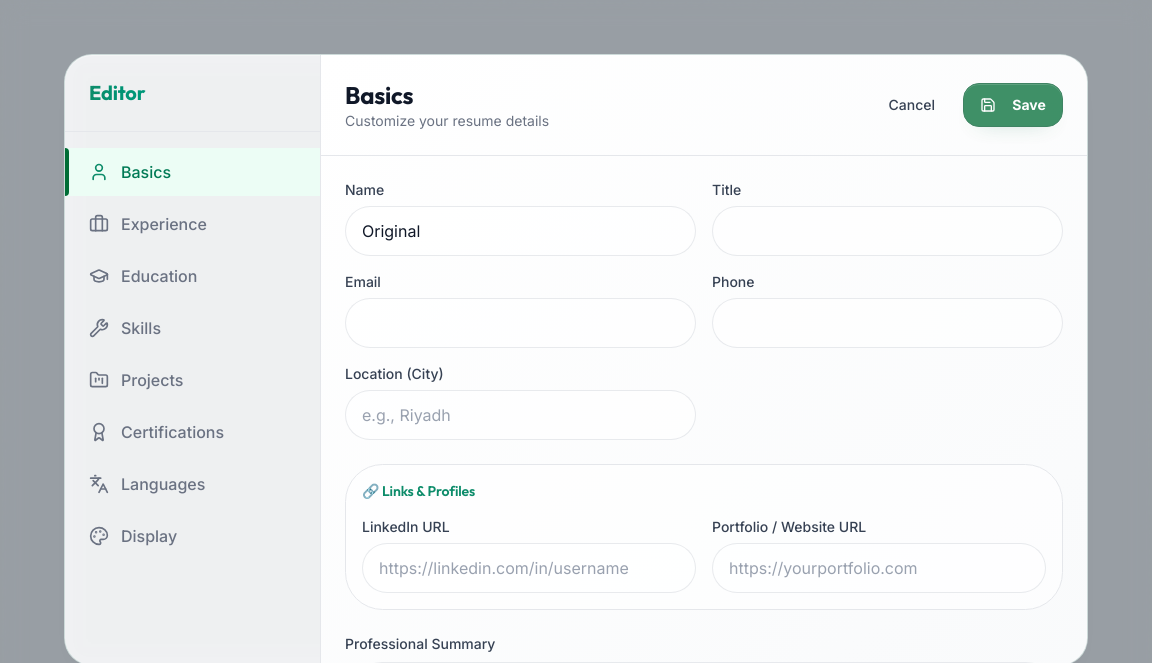
Test: keeps edits open and the previous resume intact when the library write fails
Step 1. Replace the text in the field showing "Original" below "Name" with "Corrected" → coordinates (520, 231), box [345,206,696,256]
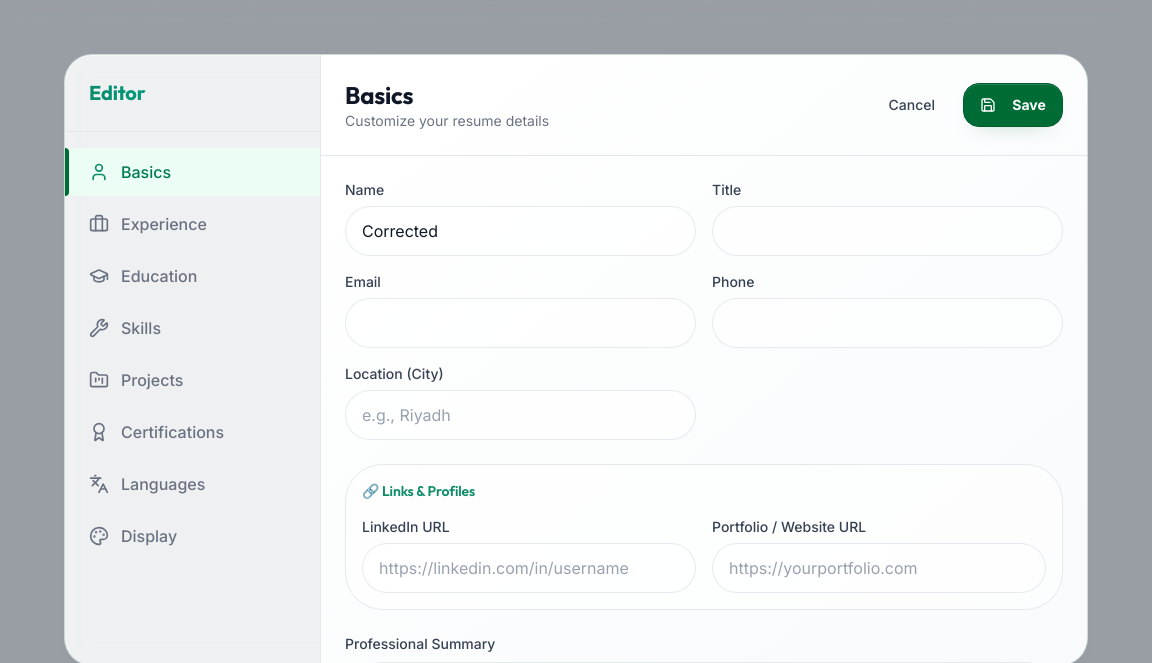
Step 2. Click the button "Save" → coordinates (1013, 105), box [963,83,1063,127]
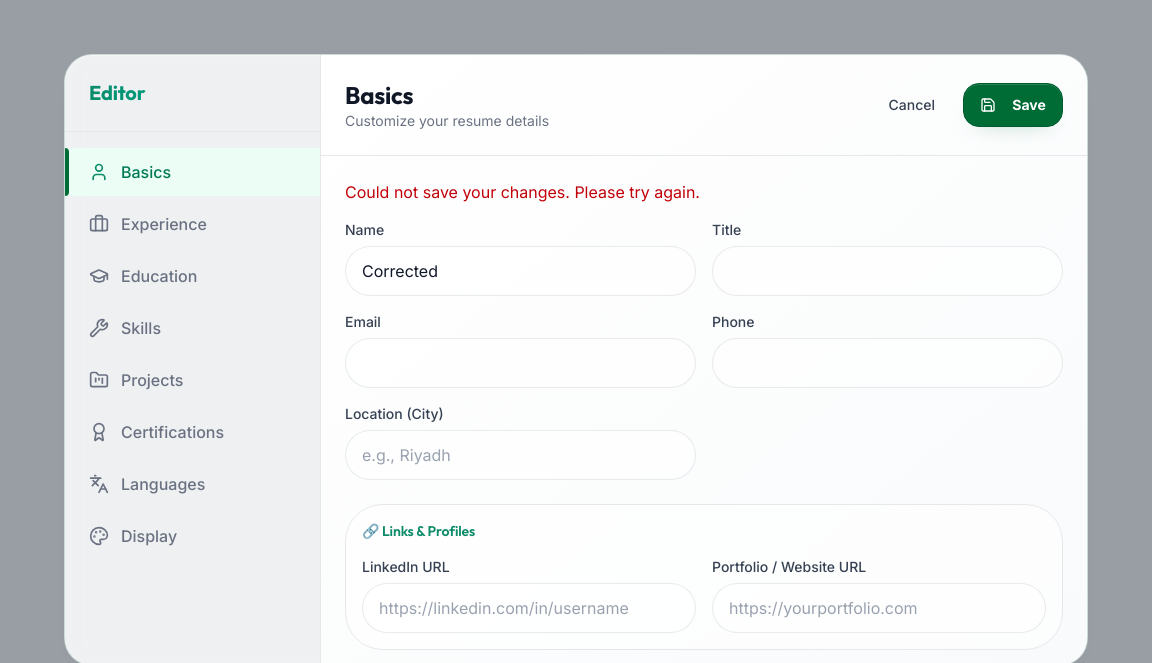
Check: the message shows "Could not save", box [345,182,700,202]
